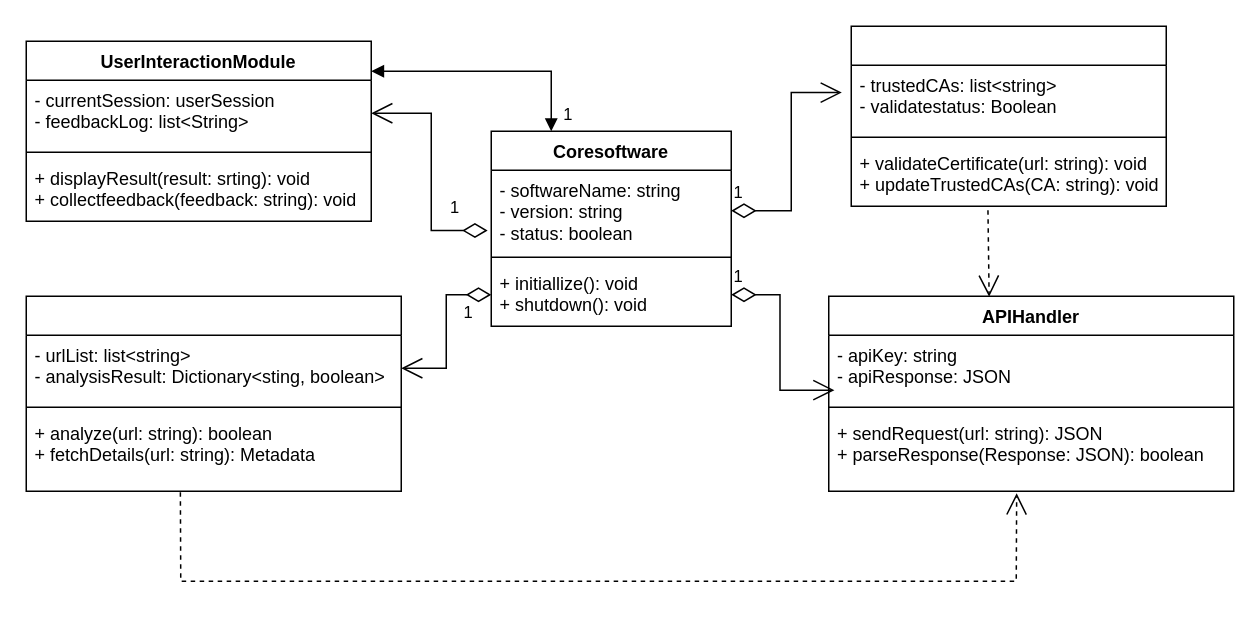
The diagram is 1260 pixels wide and 629 high, and some of its shapes have lost their labels. Here are the shapes that lost their labels. From the top down, the box of each, then its label:
(850, 25, 1166, 206): CertificateManager
(25, 295, 401, 491): URLAnalyzer
